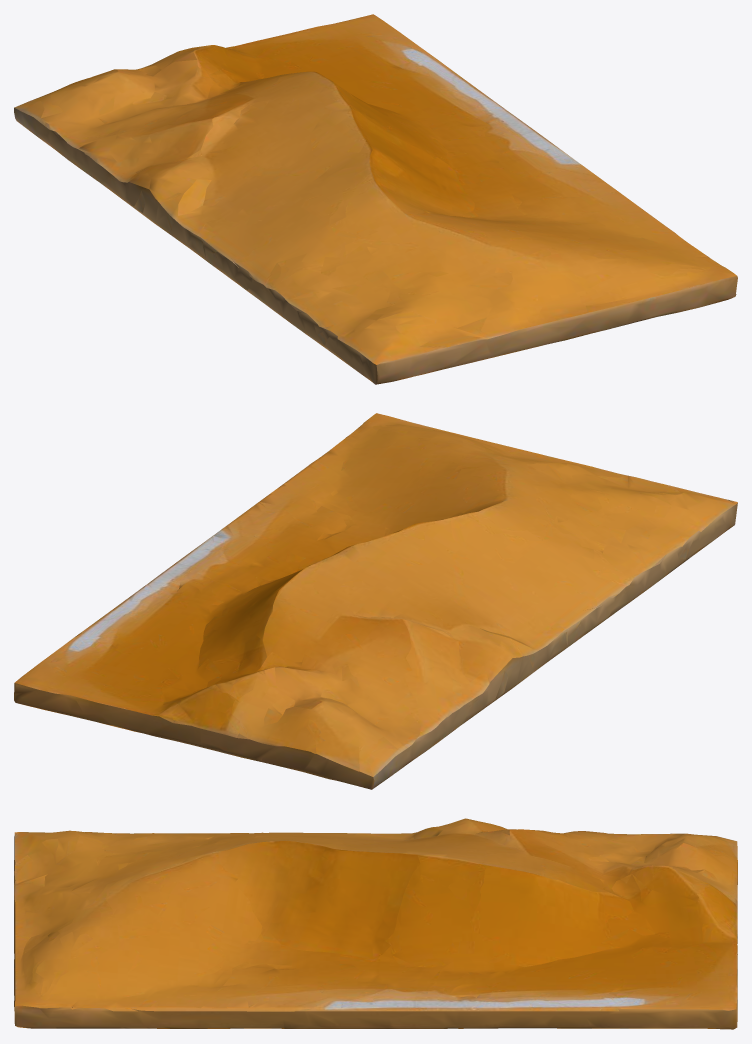
The model's file is tottori-sand-dunes.glb.
3 views of the same model, one above another, from view 1: azimuth 30°, elevation 25°; view 2: azimuth 150°, elevation 25°; view 3: azimuth 270°, elevation 25° (orthographic).
Parts seen in each view (by area): view 1: logan-textured.obj; view 2: logan-textured.obj; view 3: logan-textured.obj.
Boxes of the visible parts, x1,y1,x2,y2 form: logan-textured.obj: [14, 14, 737, 384]; logan-textured.obj: [14, 413, 737, 789]; logan-textured.obj: [14, 818, 737, 1029].
Bounding box in the file's own units: 0.5774 × 0.1318 × 1.
1 material, 1 textured.
